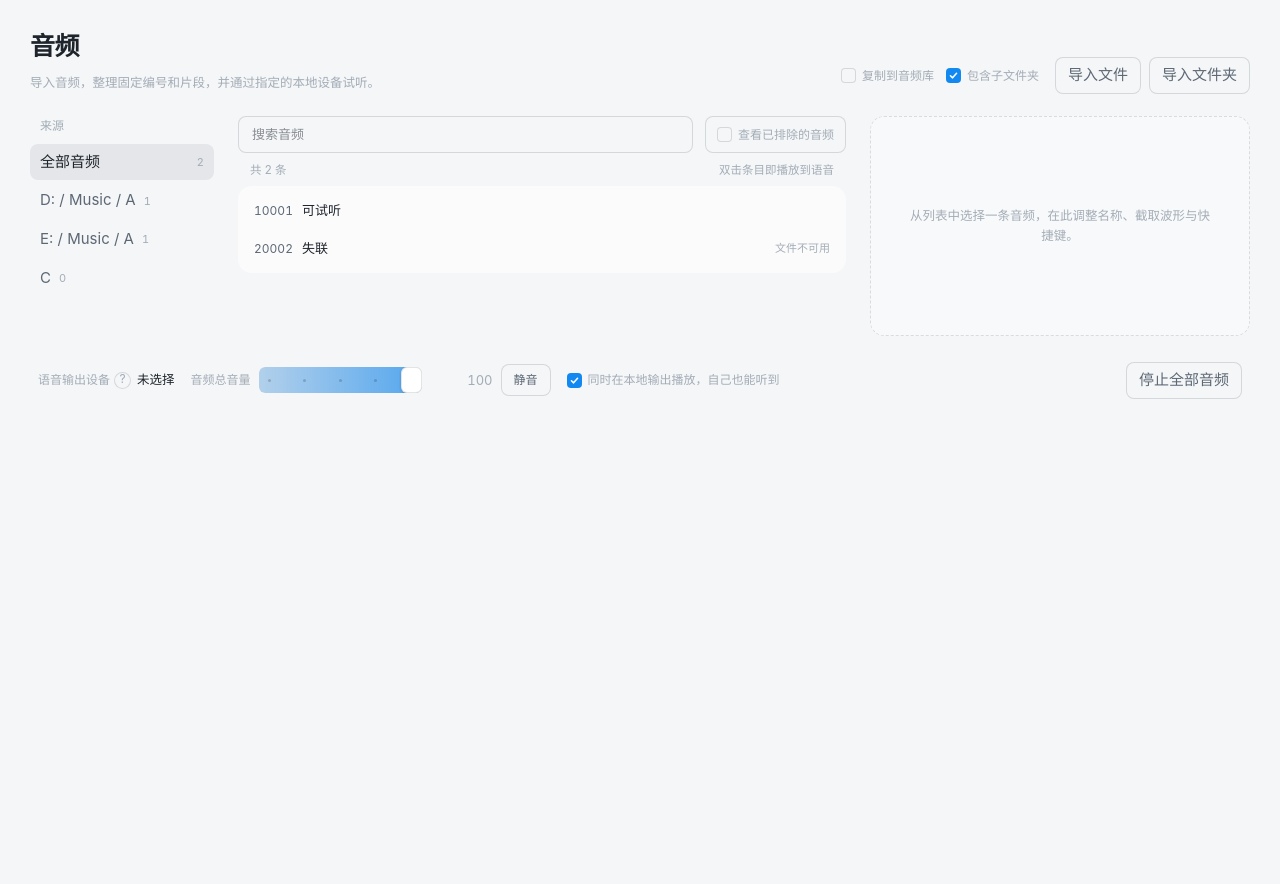
Test: 音频库页面 › 区分同名来源，并禁止试听失联文件
The width and height of the screenshot is (1280, 884).
Step 1. Click the button "20002 失联 文件不可用" → (273, 248), box [244,230,840,267]
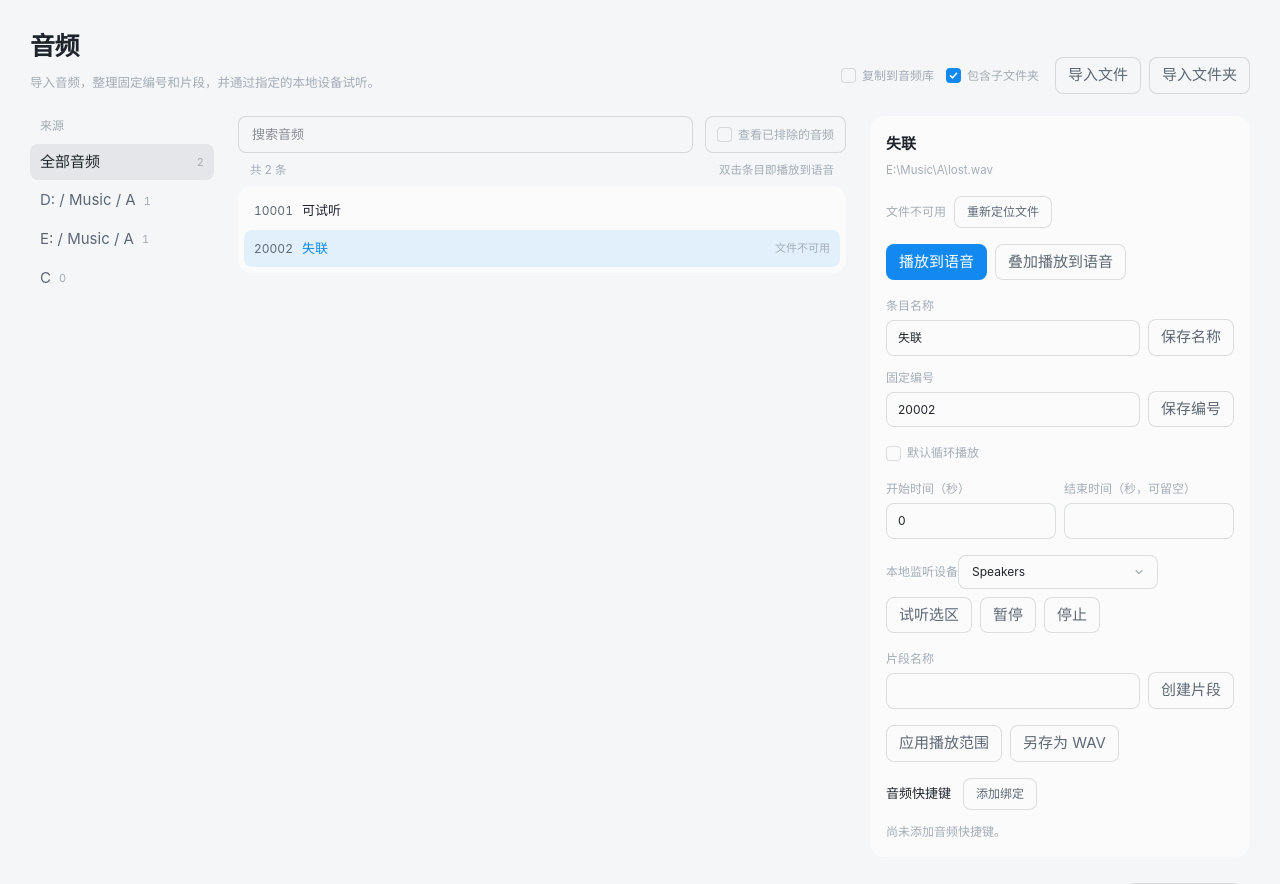
Check: the button "试听选区" is disabled, box [886,596,972,633]
